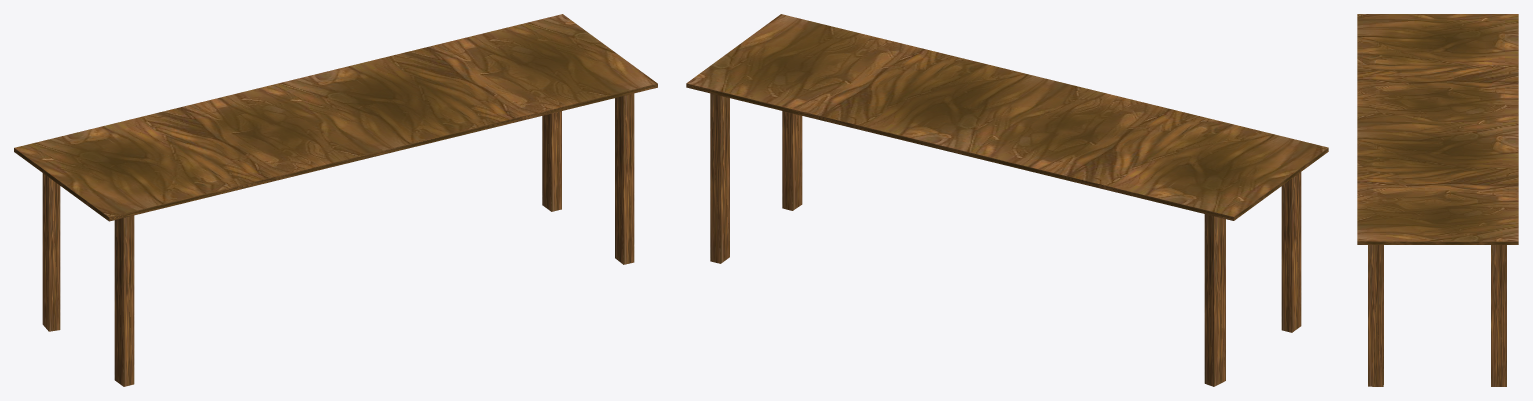
File: Table.fbx
3 renders of one model, left to right at view 1: azimuth 30°, elevation 25°; view 2: azimuth 150°, elevation 25°; view 3: azimuth 270°, elevation 25°, orthographic. The views are drawn at different scales.
Parts seen in each view (by area): view 1: Cube, Cube_1, Cube_3, Cube_2, Cube_4; view 2: Cube, Cube_2, Cube_4, Cube_1, Cube_3; view 3: Cube, Cube_4, Cube_3.
Boxes of the visible parts, box(x1,y1,x2,y2) form: Cube: box(14, 14, 657, 221); Cube_1: box(114, 215, 134, 386); Cube_3: box(615, 93, 634, 264); Cube_2: box(42, 173, 60, 331); Cube_4: box(542, 111, 561, 211); Cube: box(686, 14, 1328, 220); Cube_2: box(1204, 214, 1225, 386); Cube_4: box(710, 93, 729, 263); Cube_1: box(1281, 172, 1301, 332); Cube_3: box(782, 111, 802, 210); Cube: box(1357, 14, 1518, 244); Cube_4: box(1491, 245, 1506, 386); Cube_3: box(1368, 245, 1383, 386).
Bounding box in the file's own units: 272 × 84.94 × 81.57.
2 materials, 2 textured.
